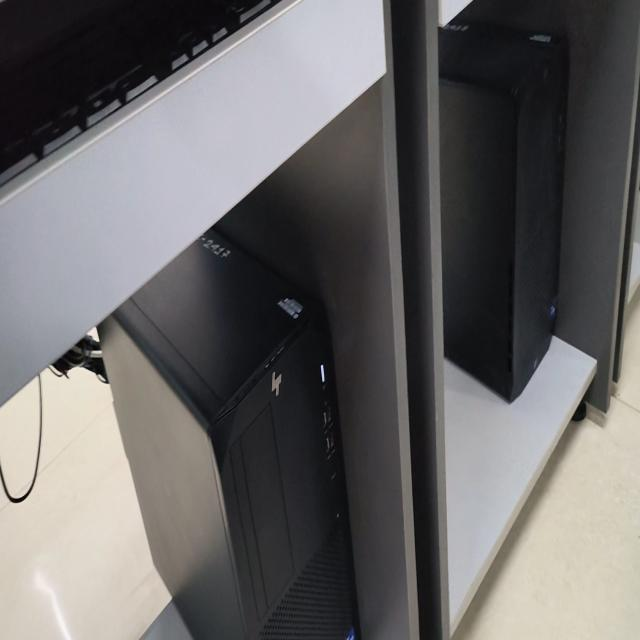Cpu: (97, 229, 359, 639), (439, 17, 568, 401)
Keyboard: (0, 0, 280, 187)
